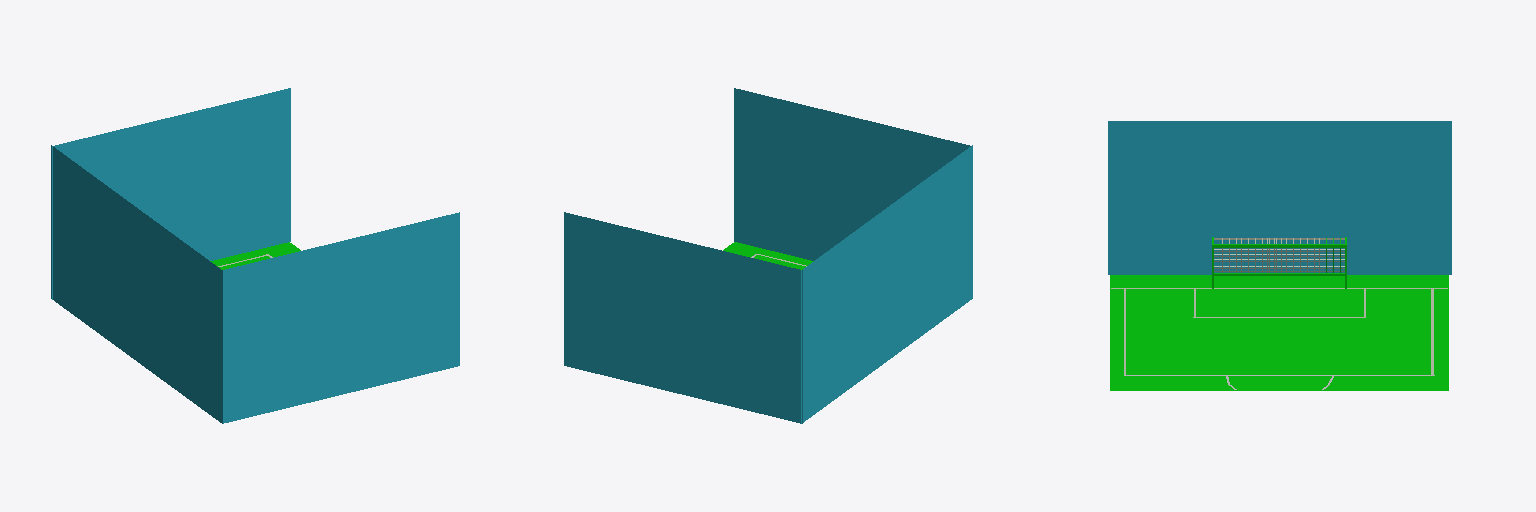
Rendered from soccer_field.obj.
The picture shows the model from 3 angles: view 1: azimuth 30°, elevation 25°; view 2: azimuth 150°, elevation 25°; view 3: azimuth 270°, elevation 25°; orthographic projection.
Visible parts, largest first — view 1: Plane.009, Plane.011, Plane.010, Plane; view 2: Plane.010, Plane.011, Plane.009, Plane; view 3: Plane.011, Plane.
Part boxes in pixels (x1,y1,x2,y2): Plane.009: (223,212,459,423); Plane.011: (51,145,222,423); Plane.010: (52,88,290,299); Plane: (210,242,330,397); Plane.010: (564,212,802,423); Plane.011: (801,145,972,423); Plane.009: (734,88,970,260); Plane: (723,242,813,269); Plane.011: (1108,121,1451,274); Plane: (1110,275,1448,390).
Size of the model in its own units: 80.69 by 49.73 by 101.